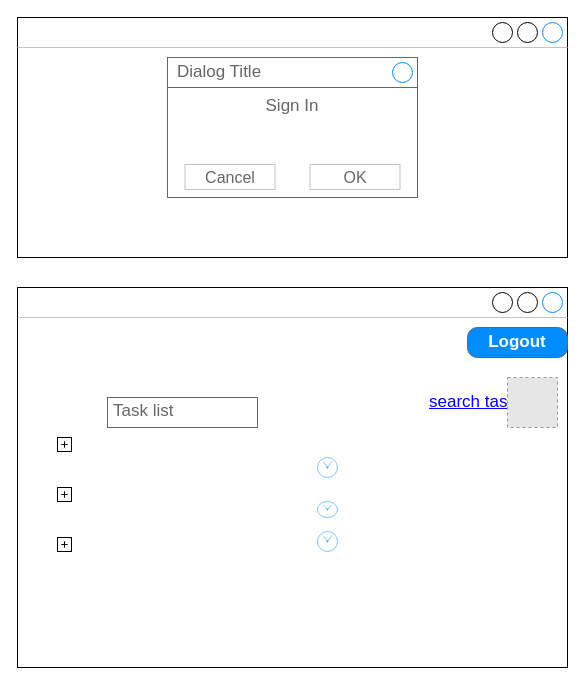
Some shapes in this 585 by 685 pixel diagram are drawn without their labels. Grey dashed boxes stand in for pictures. The box of each missing label's shape, as (x1, y1, x2, y2) in pixels:
Task Manager: (16, 16, 568, 258)
Window Title: (16, 286, 568, 668)
